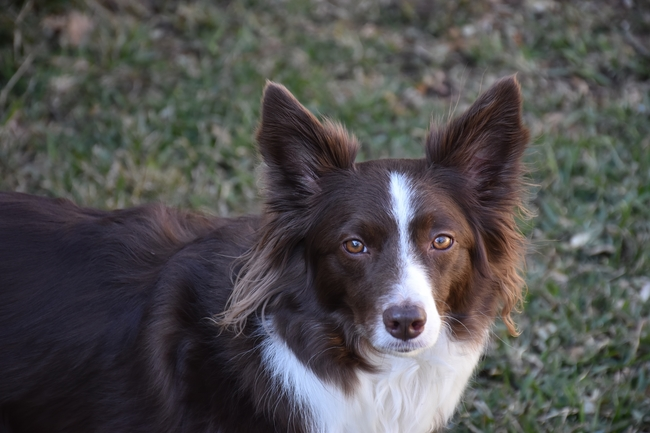dog: (0, 76, 533, 433)
